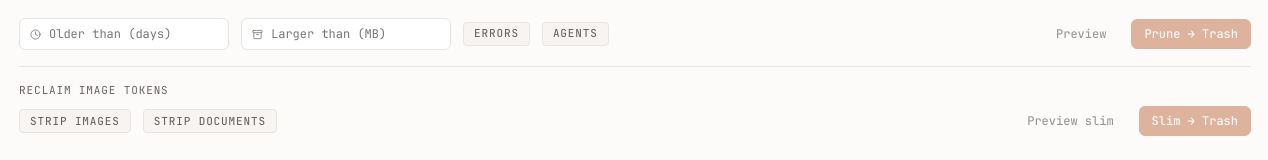
it: CleanupPane › Preview slim stays disabled until both a filter and a flag are set
Expected: the button "Preview slim" is disabled, [1014, 106, 1127, 136]
// Filter only — still disabled (no flag).
Type "7" into the number field named "Older than days". click: {"x": 134, "y": 34}
box: [49, 26, 218, 42]
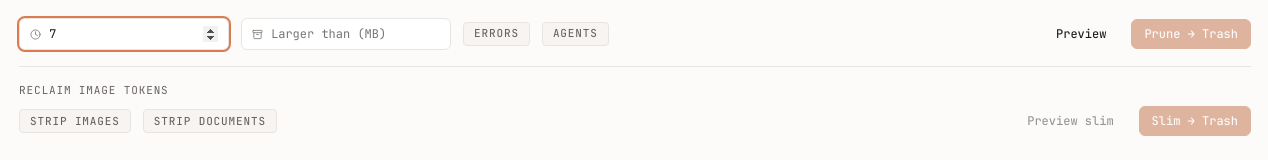
Expected: the button "Preview slim" is disabled, [1014, 106, 1127, 136]
// Flag only — still disabled (no filter) — reset filter first.
Clear the number field named "Older than days". click: {"x": 134, "y": 34}
box: [49, 26, 218, 42]
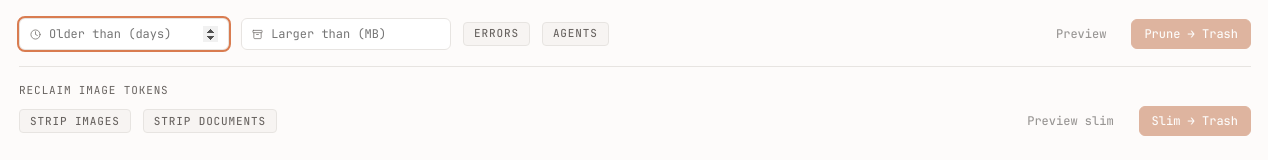
Click the switch labelled "Strip images". click: {"x": 75, "y": 121}
box: [19, 109, 131, 133]
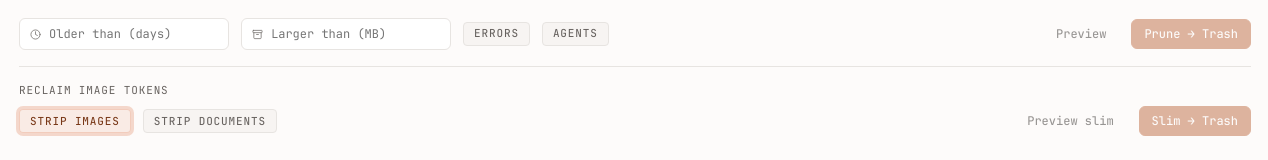
Expected: the button "Preview slim" is disabled, [1014, 106, 1127, 136]
// Both — enabled.
Type "7" into the number field named "Older than days". click: {"x": 134, "y": 34}
box: [49, 26, 218, 42]
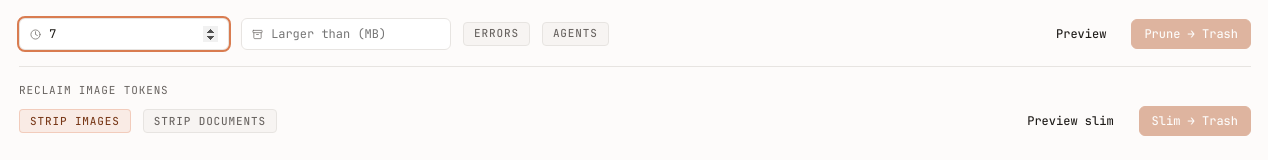
Expected: the button "Preview slim" is enabled, [1014, 106, 1127, 136]
